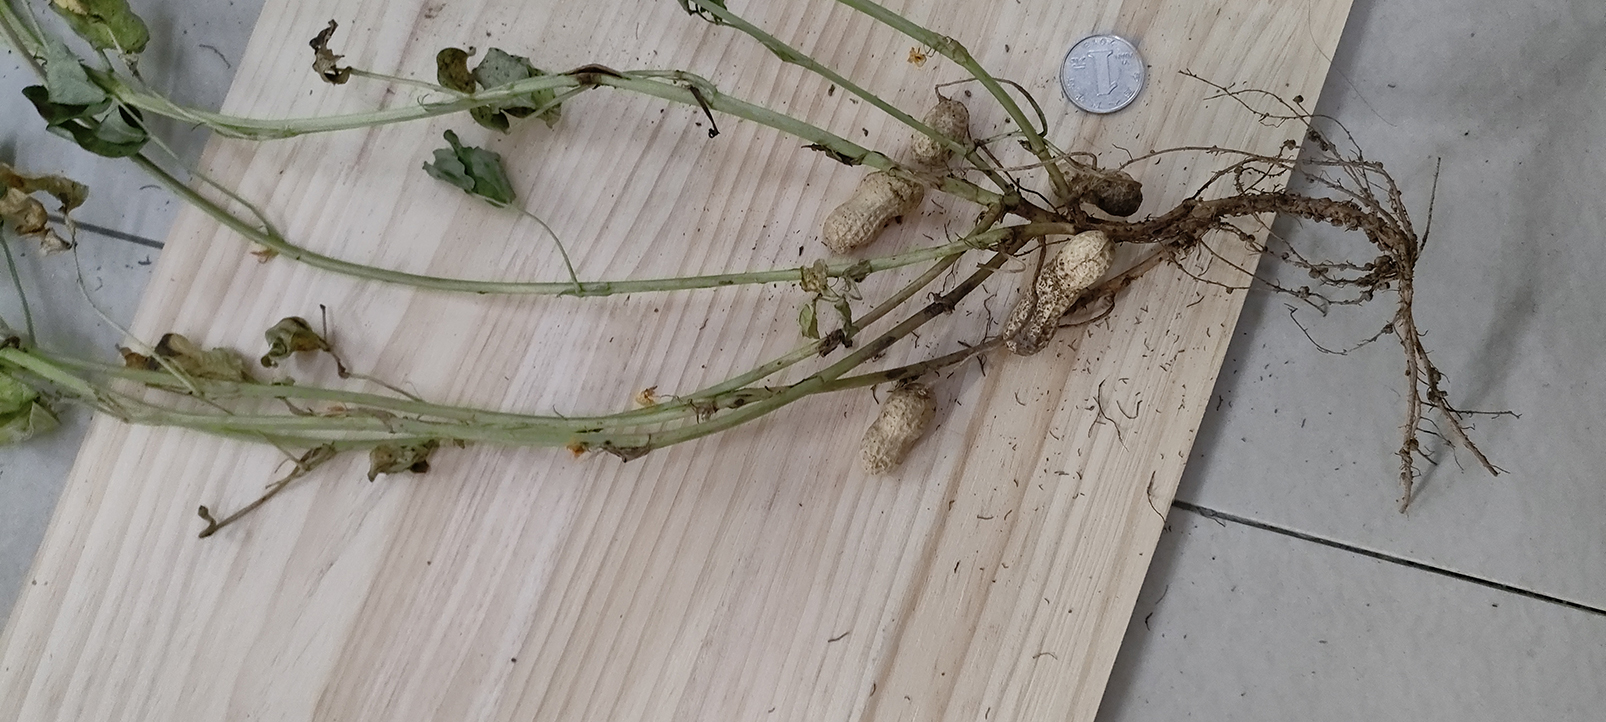h: (1004, 229, 1117, 356), (820, 169, 924, 254), (860, 382, 937, 475), (911, 98, 969, 168)
l: (1050, 162, 1143, 217)
